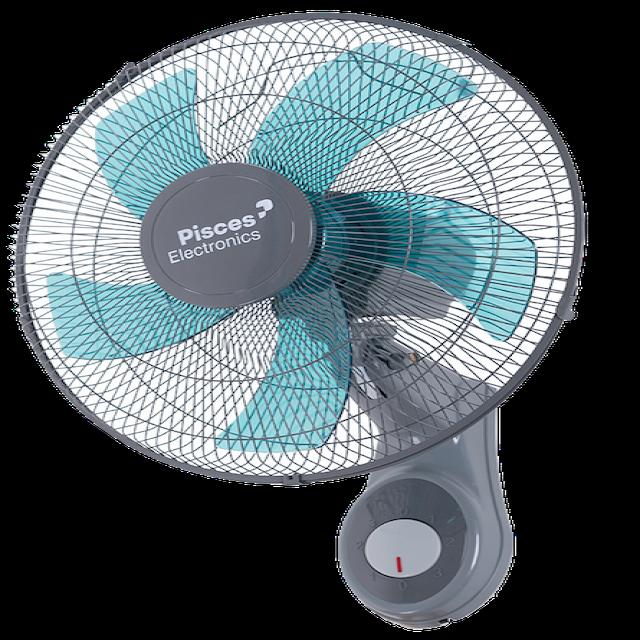fan: (13, 5, 592, 633)
